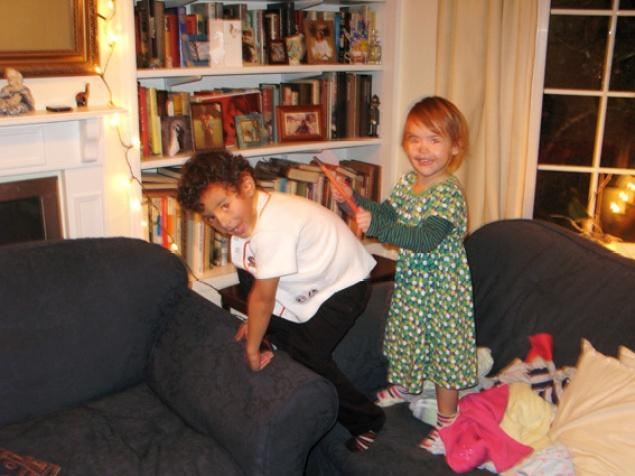Rak: (132, 0, 391, 171)
